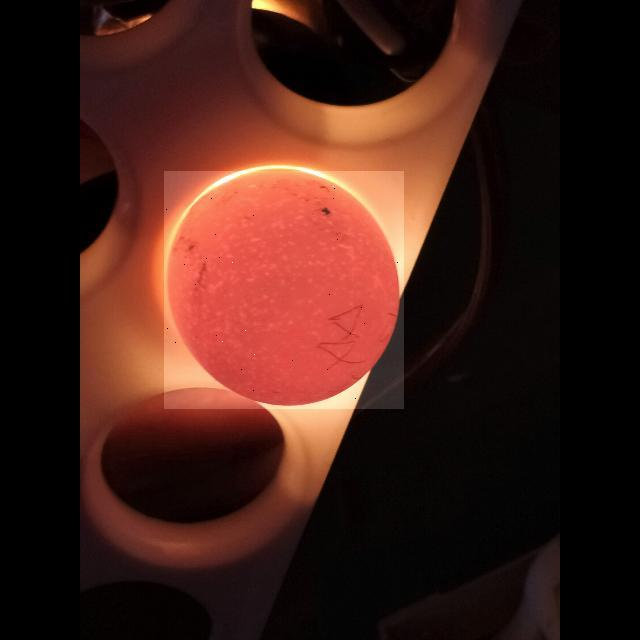Infertile: (164, 171, 404, 409)
